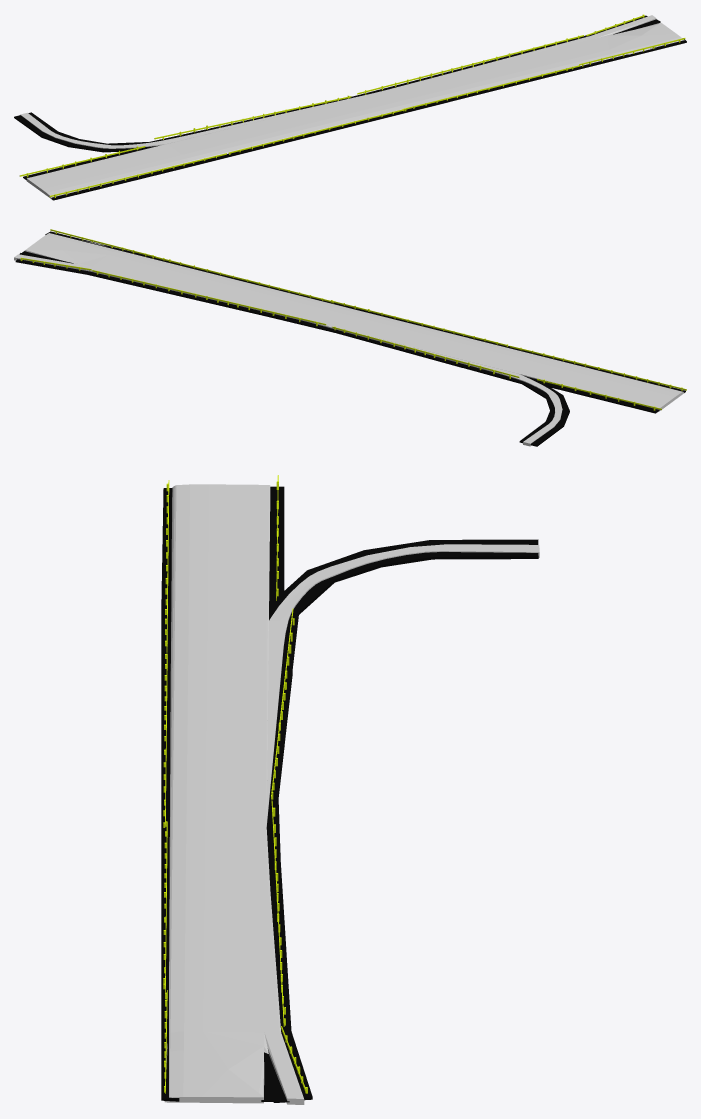
The model's file is letthereberoad.fbx.
The picture shows the model from 3 angles, top to bottom: view 1: azimuth 30°, elevation 25°; view 2: azimuth 150°, elevation 25°; view 3: azimuth 270°, elevation 25°; orthographic projection. The views are drawn at different scales.
Visible parts, largest first — view 1: Cube.007, Cube, Cube.078, Cube.110, Cube.001, Cube.051, Cube.018; view 2: Cube.007, Cube, Cube.078, Cube.001, Cube.051, Cube.018, Cube.110; view 3: Cube.007, Cube.
Boxes of the visible parts, x1,y1,x2,y2 form: Cube.007: (20,15,685,198); Cube: (14,15,686,200); Cube.078: (357,35,583,94); Cube.110: (154,96,351,139); Cube.001: (49,153,226,197); Cube.051: (404,65,579,109); Cube.018: (228,109,404,153); Cube.007: (14,233,683,446); Cube: (15,231,685,446); Cube.078: (92,270,326,325); Cube.001: (509,345,686,390); Cube.051: (156,256,333,302); Cube.018: (331,300,507,346); Cube.110: (332,326,519,377); Cube.007: (164,484,539,1104); Cube: (161,486,538,1102).
Bounding box in the file's own units: 44634 × 575 × 11428.
